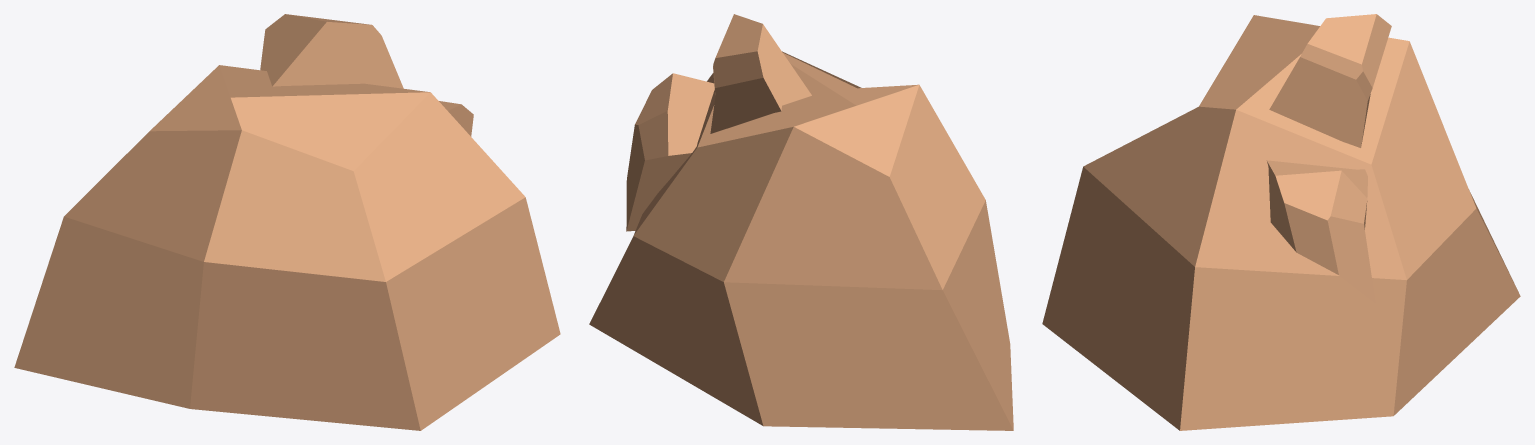
Rendered from MountainPart.fbx.
The picture shows the model from 3 angles, left to right: view 1: azimuth 30°, elevation 25°; view 2: azimuth 150°, elevation 25°; view 3: azimuth 270°, elevation 25°; orthographic projection. The views are drawn at different scales.
Parts seen in each view (by area): view 1: Plane.005; view 2: Plane.005; view 3: Plane.005.
Boxes of the visible parts, x1,y1,x2,y2 form: Plane.005: (14, 14, 560, 430); Plane.005: (589, 14, 1013, 430); Plane.005: (1042, 14, 1520, 430).
Bounding box in the file's own units: 2959 × 1930 × 2569.
